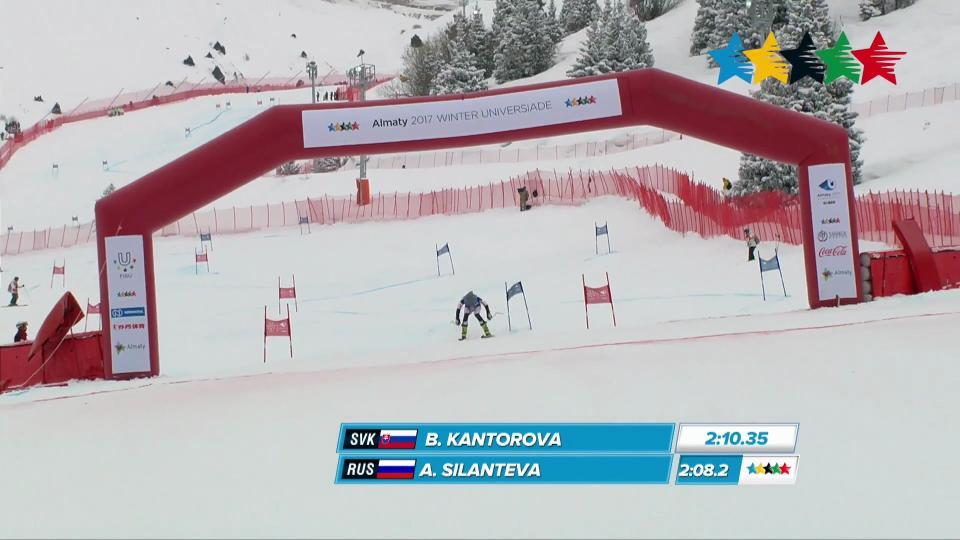gate: (598, 265, 620, 330), (278, 302, 300, 366), (253, 298, 274, 364), (575, 273, 594, 337)
